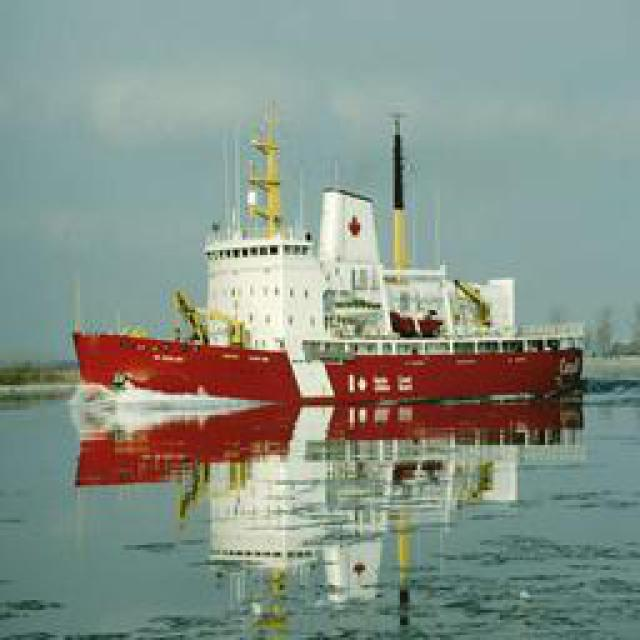Ship: (70, 101, 605, 408)
